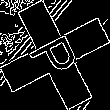P_NE: (24, 27, 86, 83)
